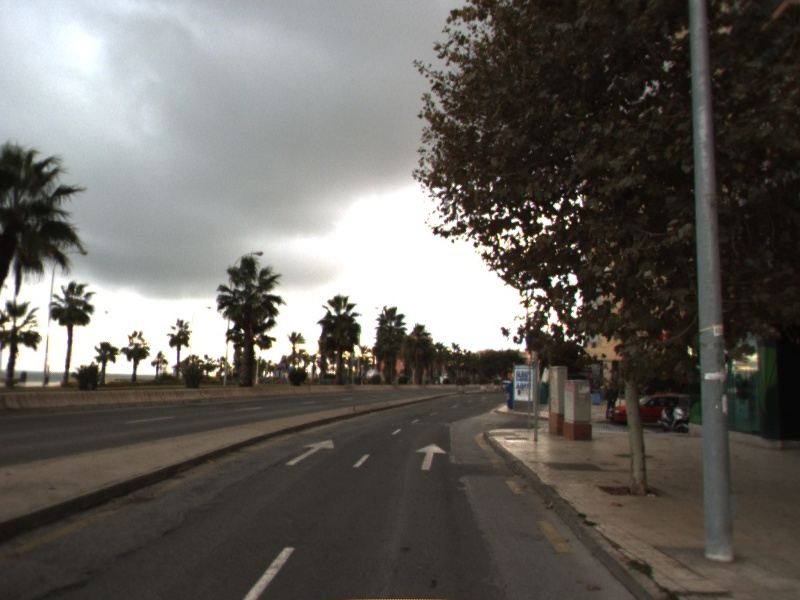STRAIGHT: (285, 437, 335, 466), (414, 442, 448, 472)
